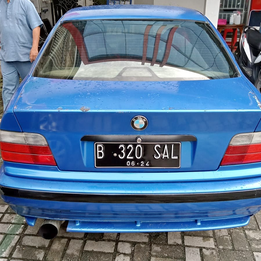plate: (95, 142, 182, 167)
